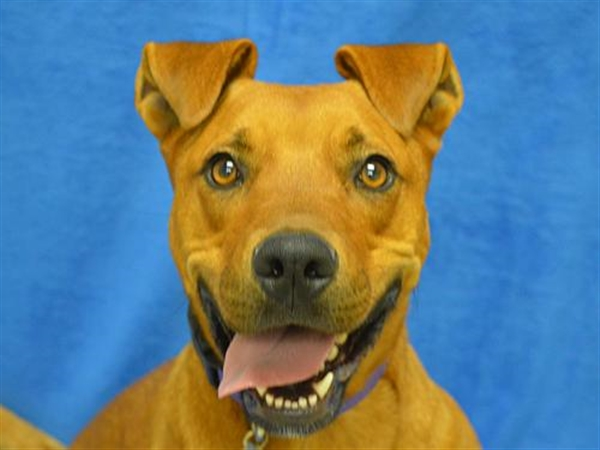dog: (80, 36, 481, 450)
